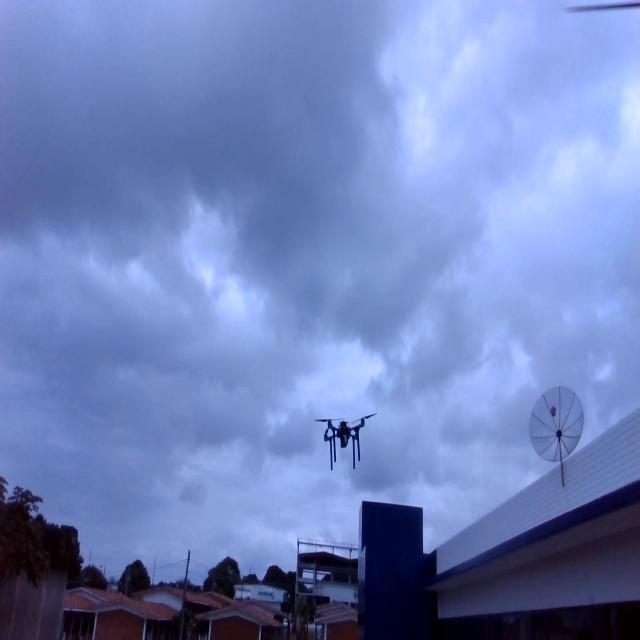-uav-: (306, 408, 384, 478)
